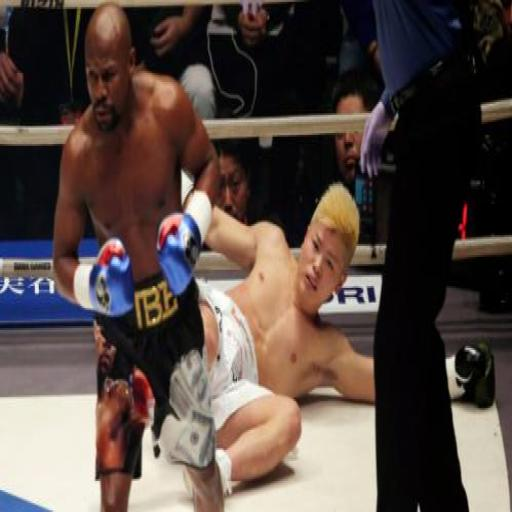boxing: (29, 9, 277, 512)
